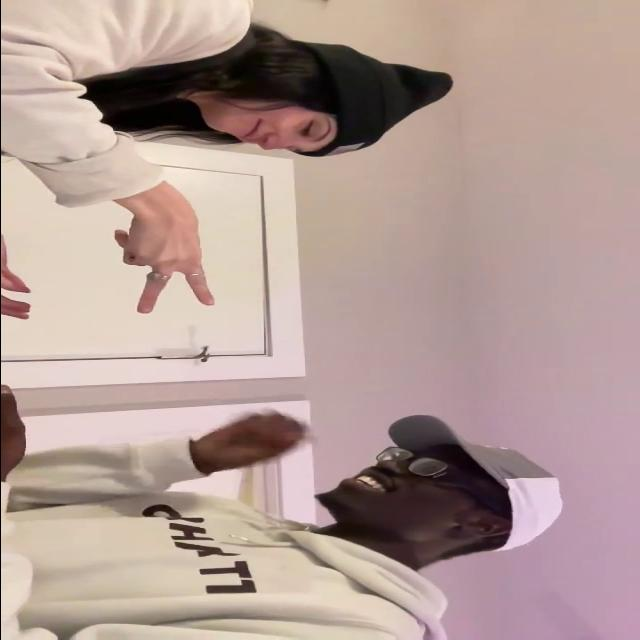Rock: (194, 411, 312, 466)
Scissors: (114, 196, 216, 316)
